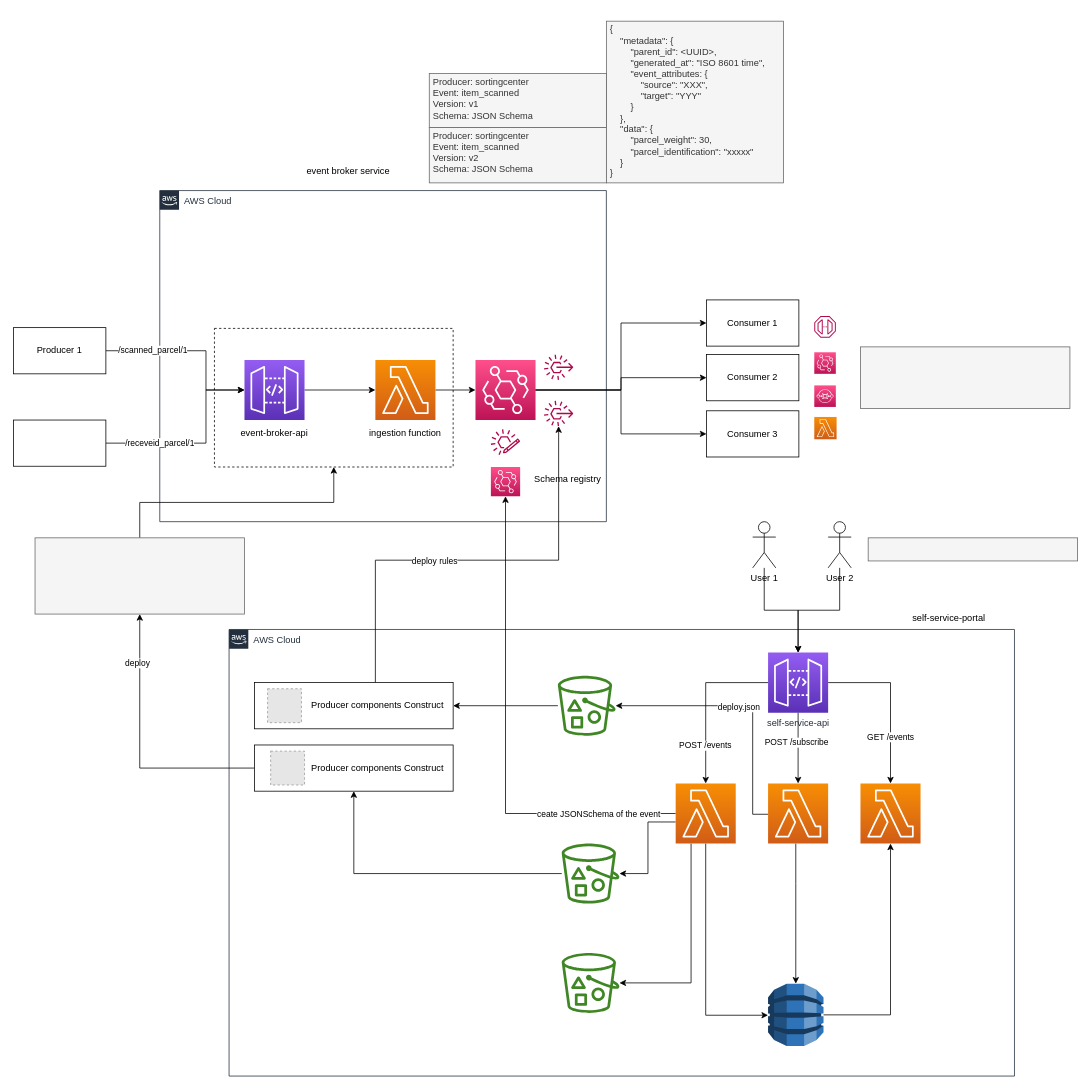
Image size: 1091x1090. Some labels were removed from this diagram. Grey dashed boxes stand in for pictures. Each missing label, with the centre of its shape:
"consumer deployment configurations" belongs at (x=586, y=705).
"Consumers Lambda Consumers HTTPS Consumers SQS Consumers" belongs at (x=965, y=377).
"events_schema_backup" belongs at (x=590, y=982).
"HTTP Producer API Gateway Route API Gateway Model API Gateway Request Validator" belongs at (x=139, y=575).
"Producer 2" belongs at (x=59, y=442).
"producer deployment configurations" belongs at (x=590, y=873).
"User can be producers or consumers." belongs at (x=972, y=549).
